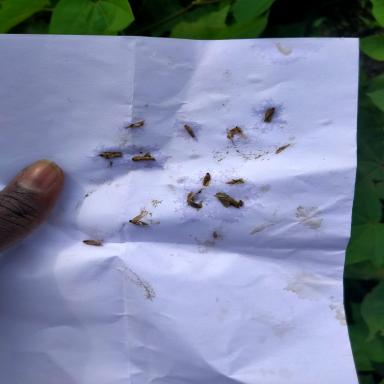pbw: (128, 212, 148, 226), (131, 152, 156, 161), (197, 173, 212, 186), (263, 107, 275, 123), (99, 152, 123, 159), (184, 124, 195, 138), (82, 239, 104, 245)
